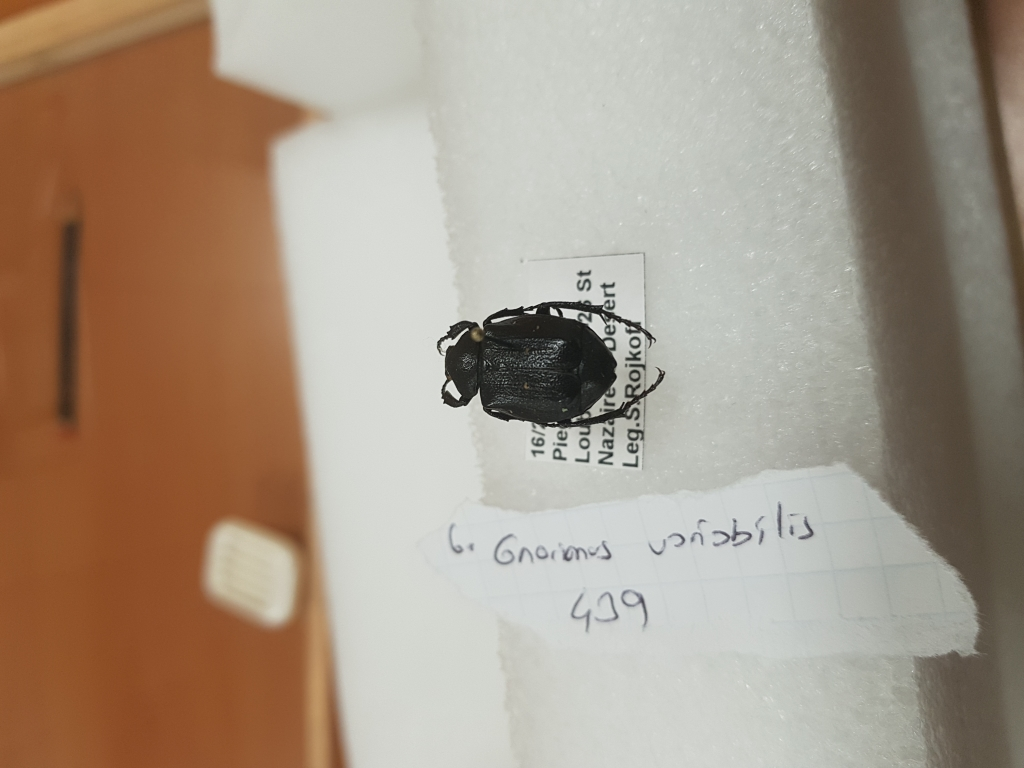Gnorimus_variabilis: (425, 298, 667, 431)
